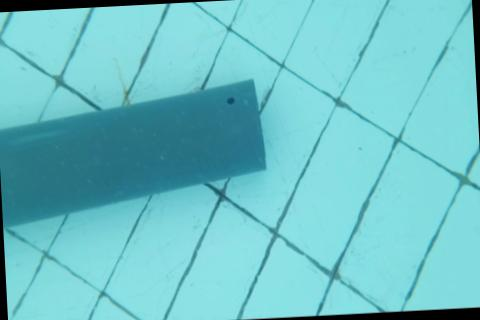kebocoran: (225, 95, 236, 106)
